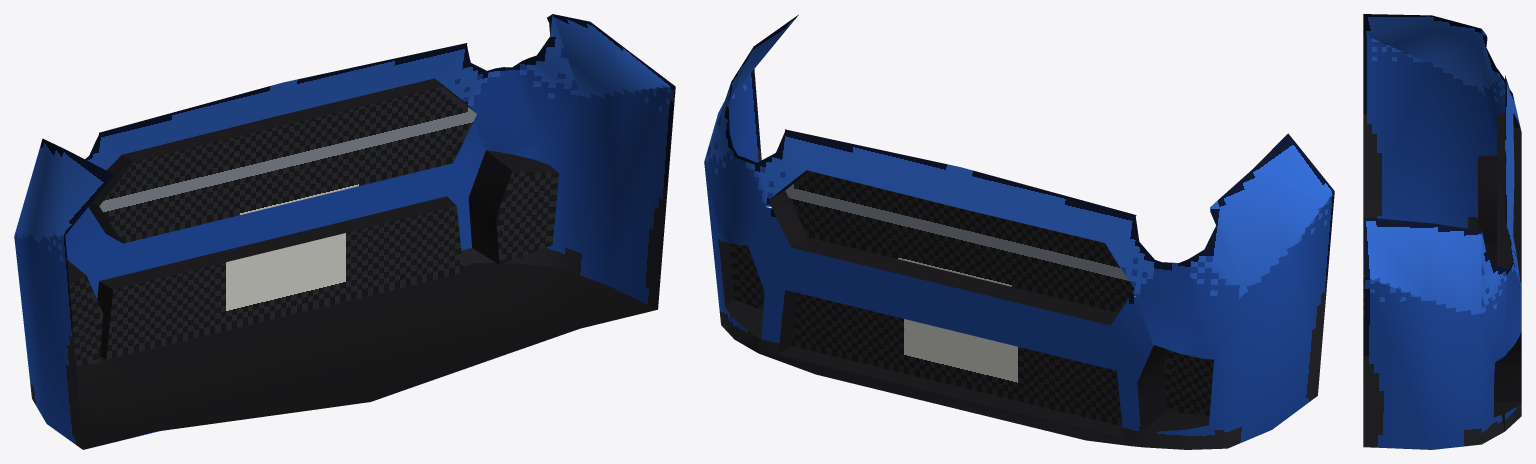
File: bumper_F_sport.glb
The picture shows the model from 3 angles, left to right: view 1: azimuth 30°, elevation 25°; view 2: azimuth 150°, elevation 25°; view 3: azimuth 270°, elevation 25°; orthographic projection. The views are drawn at different scales.
Visible parts, largest first — view 1: bumper_F_sport; view 2: bumper_F_sport; view 3: bumper_F_sport.
Boxes of the visible parts, left/top/right/bottom form: bumper_F_sport: left=14, top=14, right=675, bottom=449; bumper_F_sport: left=704, top=14, right=1334, bottom=449; bumper_F_sport: left=1363, top=14, right=1521, bottom=449.
Size of the model in its own units: 1.72 by 0.7854 by 0.4765.
1 material, 1 textured.
